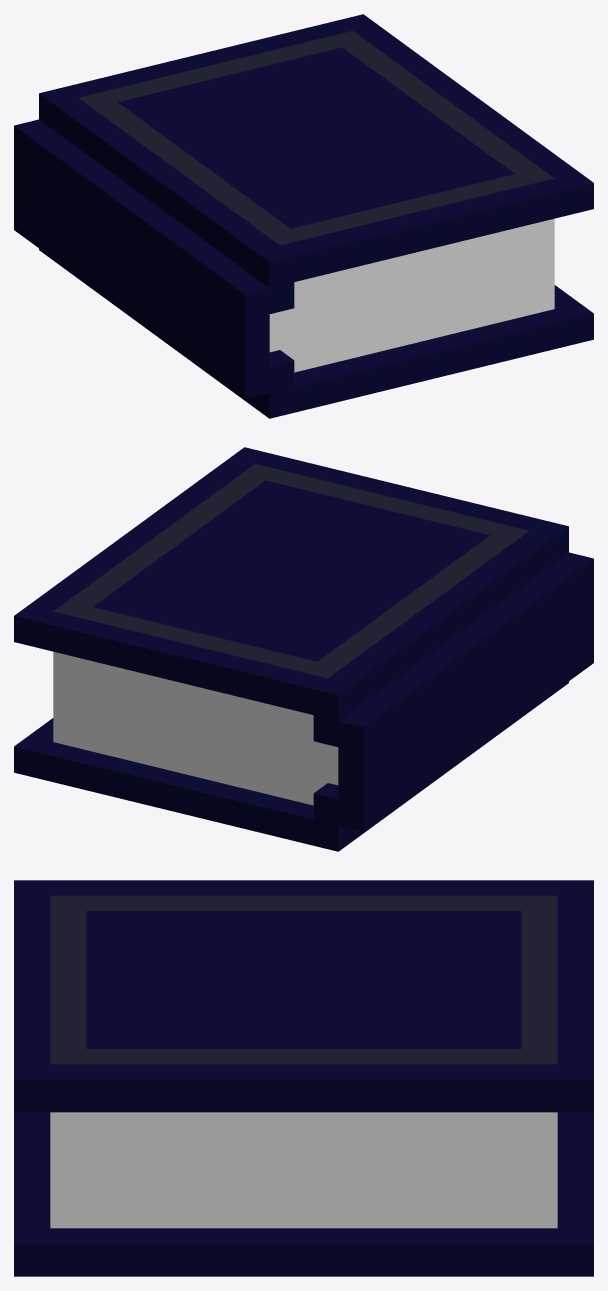
Rendered from livre_fermer_blue.obj.
3 views of the same model, one above another, from view 1: azimuth 30°, elevation 25°; view 2: azimuth 150°, elevation 25°; view 3: azimuth 270°, elevation 25° (orthographic). The views are drawn at different scales.
Bounding box in the file's own units: 1.4 × 0.6 × 1.6.
Materials: 1 (1 with a texture image).
